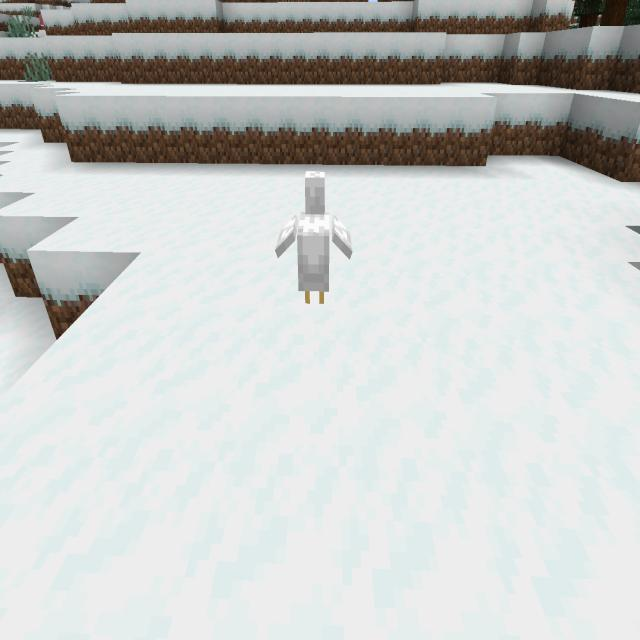chicken: (270, 160, 359, 327)
